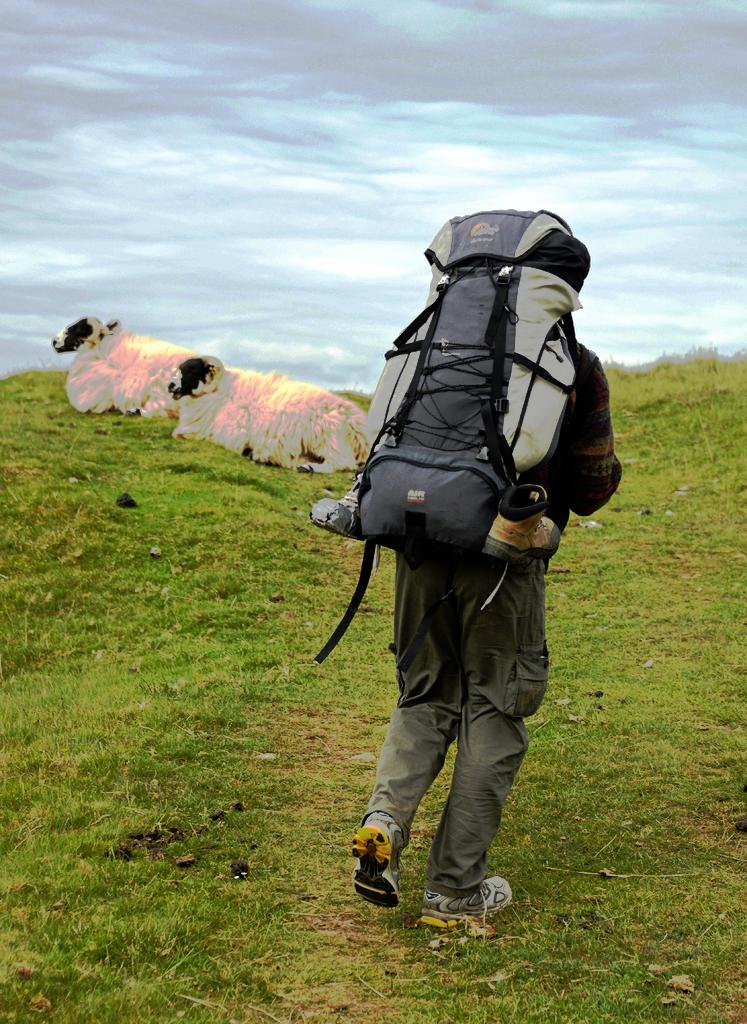Sheep: (164, 353, 366, 471), (47, 316, 194, 418)
